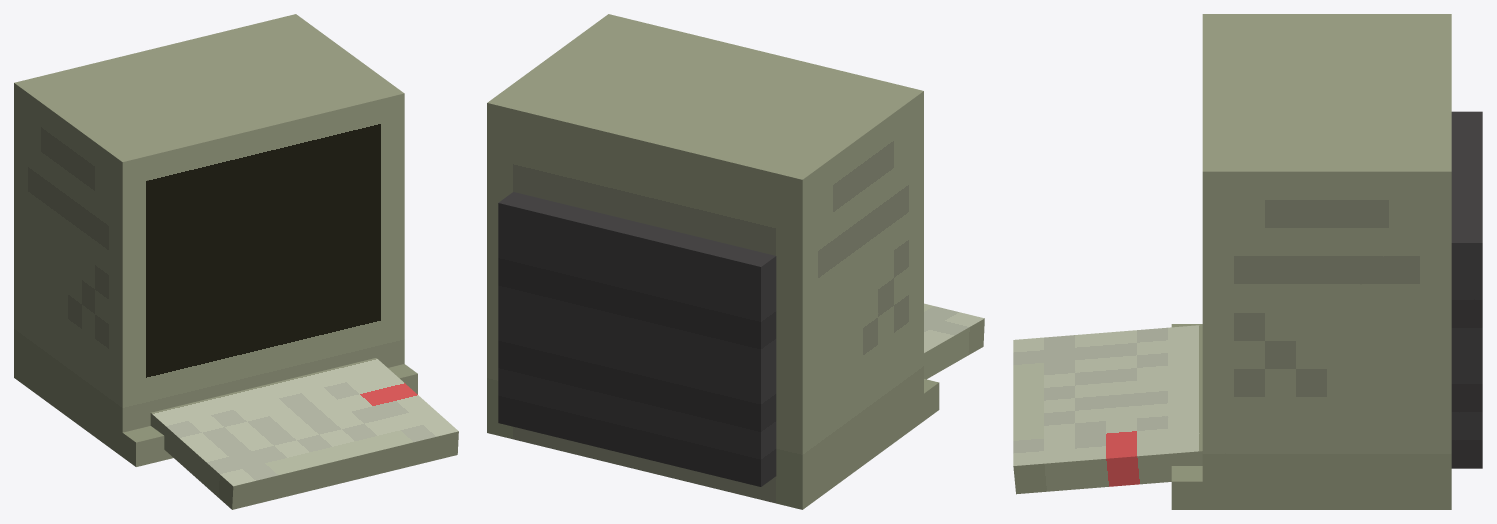
The model's file is computer.glb.
The picture shows the model from 3 angles, left to right: view 1: azimuth 30°, elevation 25°; view 2: azimuth 150°, elevation 25°; view 3: azimuth 270°, elevation 25°; orthographic projection. The views are drawn at different scales.
Parts seen in each view (by area): view 1: computer; view 2: computer; view 3: computer.
Boxes of the visible parts, x1=… form: computer: x1=14, y1=14, x2=458, y2=509; computer: x1=487, y1=14, x2=984, y2=509; computer: x1=1013, y1=14, x2=1482, y2=509.
Size of the model in its own units: 0.75 by 0.75 by 0.9429.
